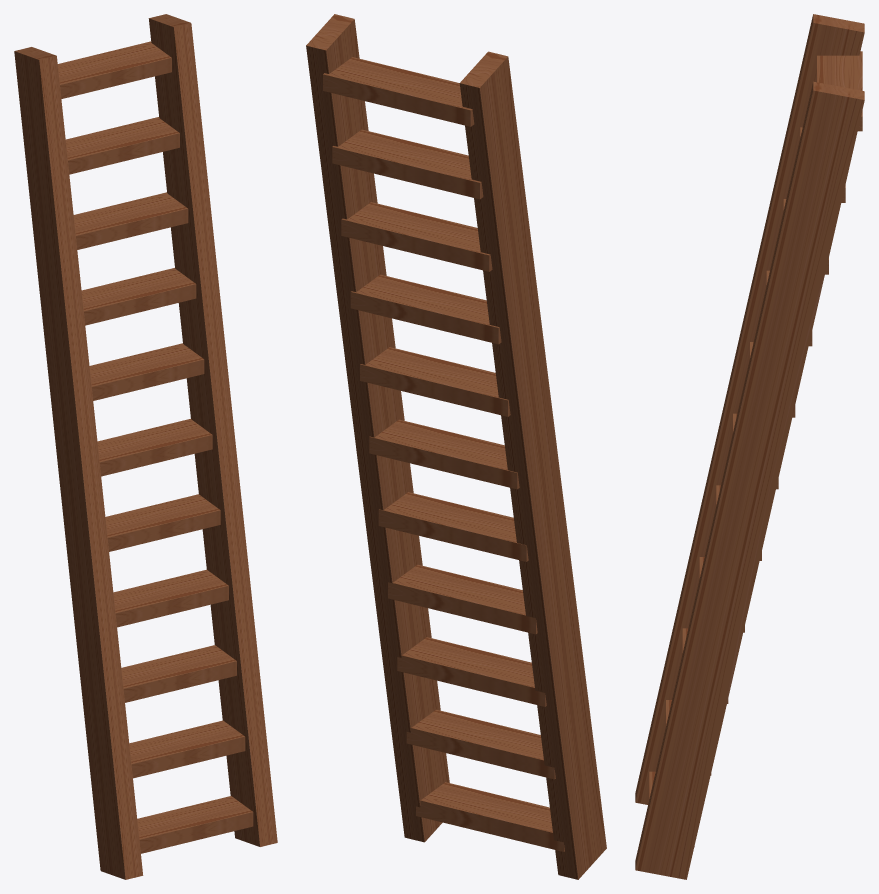
The model's file is ladder.gltf.
The picture shows the model from 3 angles, left to right: view 1: azimuth 30°, elevation 25°; view 2: azimuth 150°, elevation 25°; view 3: azimuth 270°, elevation 25°; orthographic projection. The views are drawn at different scales.
Parts seen in each view (by area): view 1: ladder; view 2: ladder; view 3: ladder.
Part boxes in pixels (<box>): ladder: <box>14,14,277,879</box>; ladder: <box>306,14,606,879</box>; ladder: <box>635,14,864,879</box>.
Size of the model in its own units: 0.3282 by 1.58 by 0.4163.
Materials: 1 (1 with a texture image).
